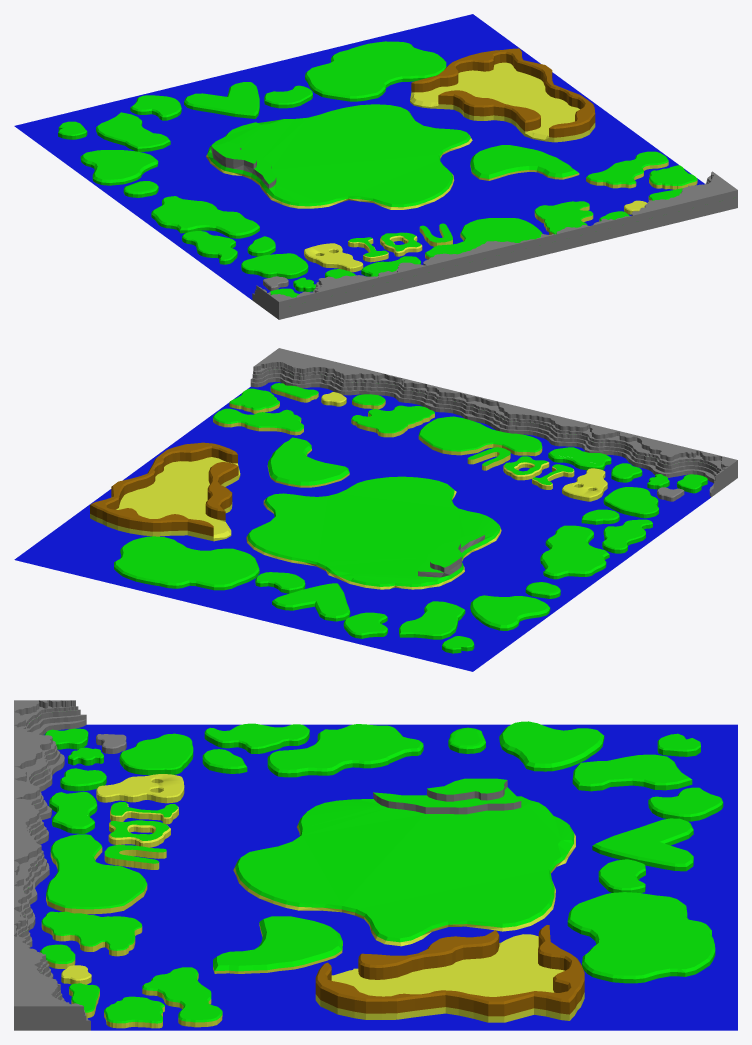
Rendered from islandworld.fbx.
The picture shows the model from 3 angles, top to bottom: view 1: azimuth 30°, elevation 25°; view 2: azimuth 150°, elevation 25°; view 3: azimuth 270°, elevation 25°; orthographic projection. The views are drawn at different scales.
Parts seen in each view (by area): view 1: Plan; view 2: Plan; view 3: Plan.
Boxes of the visible parts, x1=… form: Plan: x1=14, y1=14, x2=737, y2=319; Plan: x1=14, y1=348, x2=737, y2=671; Plan: x1=14, y1=700, x2=737, y2=1030.
Bounding box in the file's own units: 20000 × 747 × 20000.
